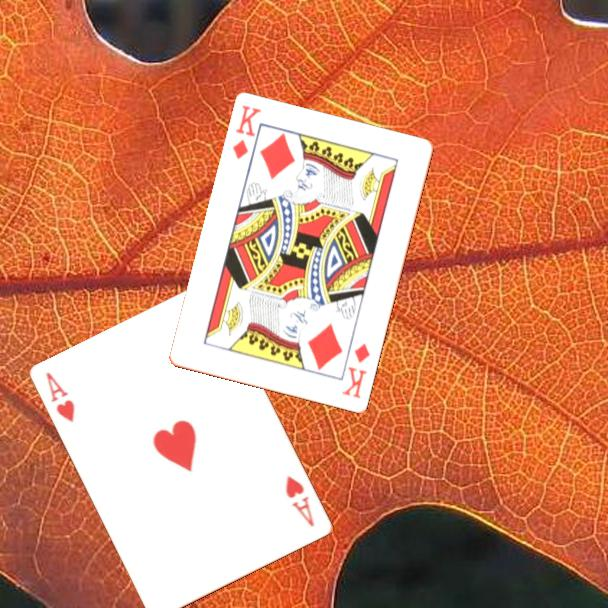d13: (338, 340, 373, 402), (229, 102, 264, 163)
h01: (283, 472, 318, 530), (43, 369, 78, 426)
